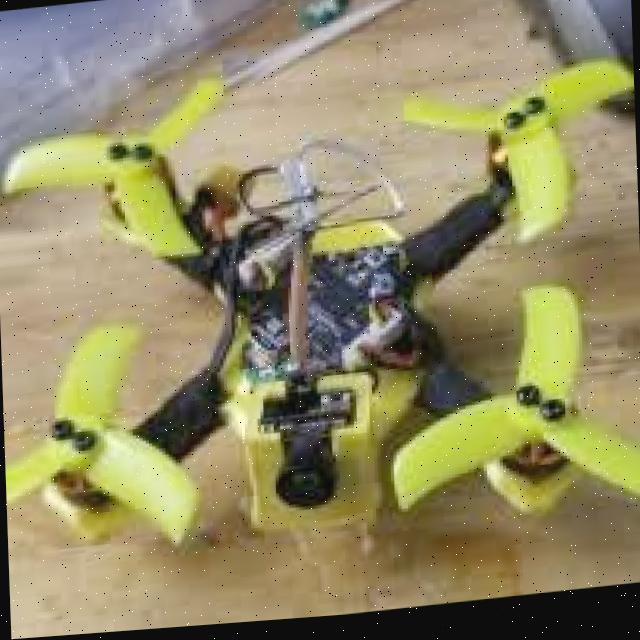drone: (0, 24, 640, 599)
